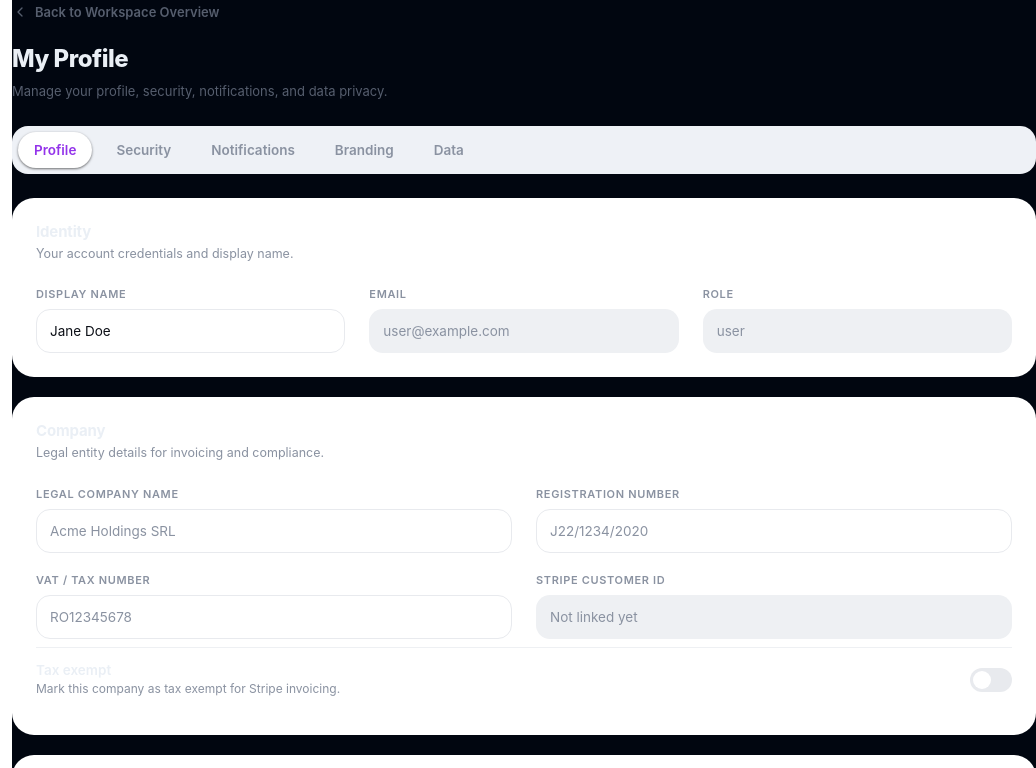
Scenario: AccountSettingsPage › requires a programmatic label for the SecuritySection MFA disable field
Click the tab "Security" at (144, 150), box [100,132,187,168]
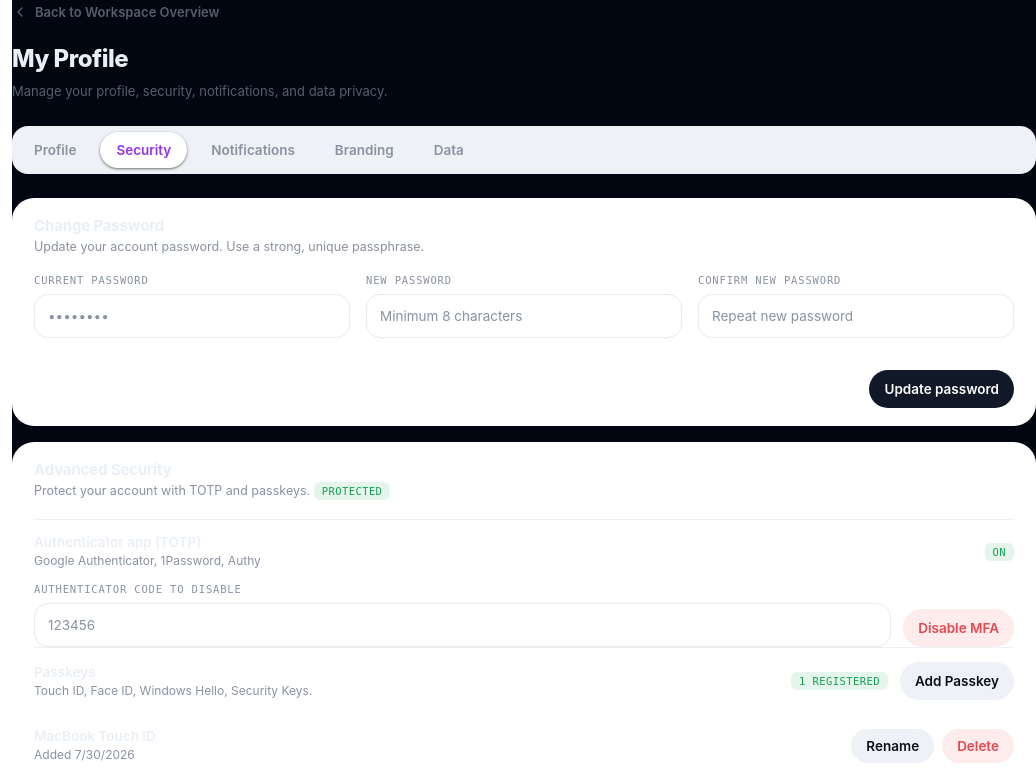
Expected: the field labelled "Authenticator code to disable" is shown, [34,603,891,647]
